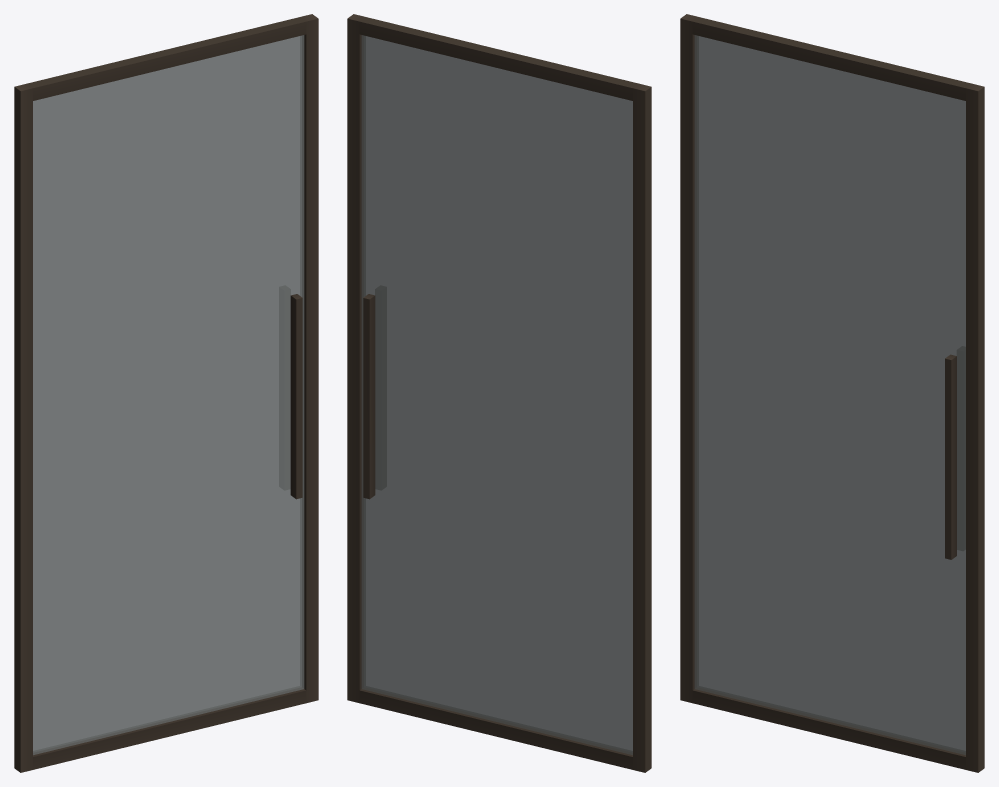
Rendered from ph_door_steam.gltf.
3 views of the same model, side by side, from view 1: azimuth 30°, elevation 25°; view 2: azimuth 150°, elevation 25°; view 3: azimuth 330°, elevation 25° (orthographic).
Visible parts, largest first — view 1: PHDoorSteam_Glass, PHDoorSteam_Frame, PHDoorSteam_Pull_Hall; view 2: PHDoorSteam_Glass, PHDoorSteam_Frame, PHDoorSteam_Pull_Room; view 3: PHDoorSteam_Glass, PHDoorSteam_Frame, PHDoorSteam_Pull_Hall.
Boxes of the visible parts, box(x1,y1,x2,y2) form: PHDoorSteam_Glass: box(33, 35, 304, 755); PHDoorSteam_Frame: box(14, 14, 318, 772); PHDoorSteam_Pull_Hall: box(290, 294, 302, 499); PHDoorSteam_Glass: box(361, 35, 632, 755); PHDoorSteam_Frame: box(347, 14, 651, 772); PHDoorSteam_Pull_Room: box(363, 294, 375, 499); PHDoorSteam_Glass: box(694, 35, 965, 755); PHDoorSteam_Frame: box(680, 14, 984, 772); PHDoorSteam_Pull_Hall: box(945, 354, 956, 559).
Bounding box in the file's own units: 1.09 × 2.39 × 0.11.
